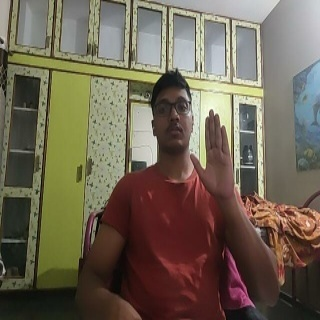Face: (150, 69, 195, 152)
Hello: (190, 106, 235, 201)
